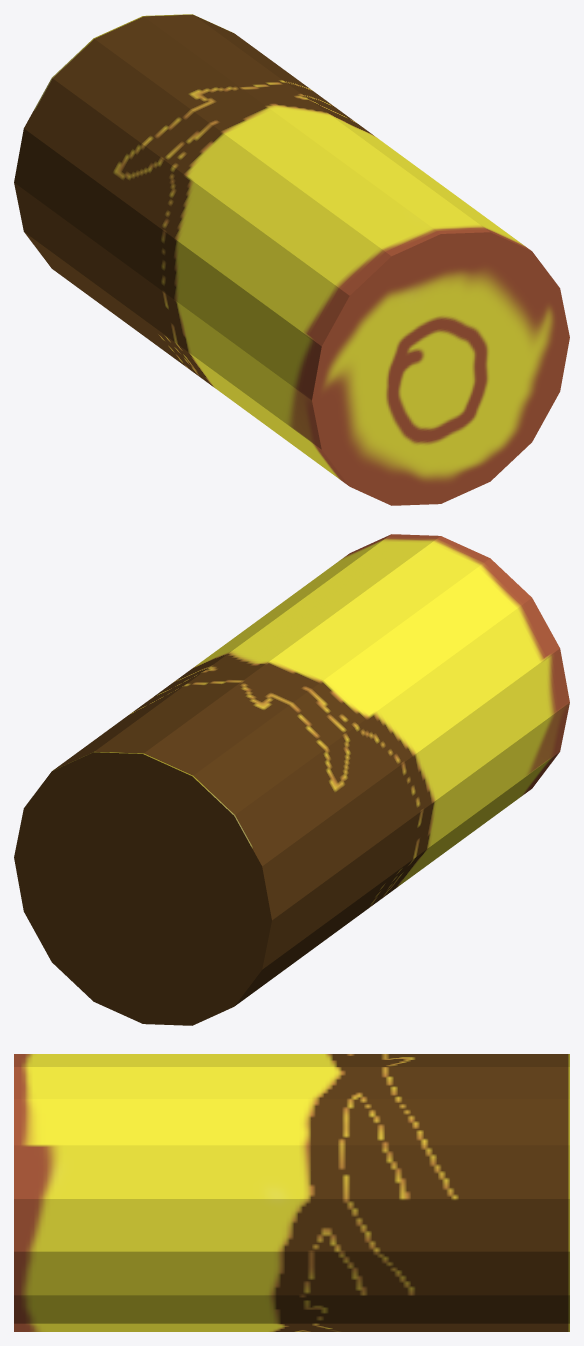
File: Bullet.fbx
3 views of the same model, one above another, from view 1: azimuth 30°, elevation 25°; view 2: azimuth 150°, elevation 25°; view 3: azimuth 270°, elevation 25° (orthographic). The views are drawn at different scales.
Visible parts, largest first — view 1: Cylinder; view 2: Cylinder; view 3: Cylinder.
Part boxes in pixels (x1,y1,x2,y2): Cylinder: (14,14,569,505); Cylinder: (14,534,569,1025); Cylinder: (14,1054,569,1331).
Bounding box in the file's own units: 20 × 40 × 20.
Materials: 1 (1 with a texture image).
